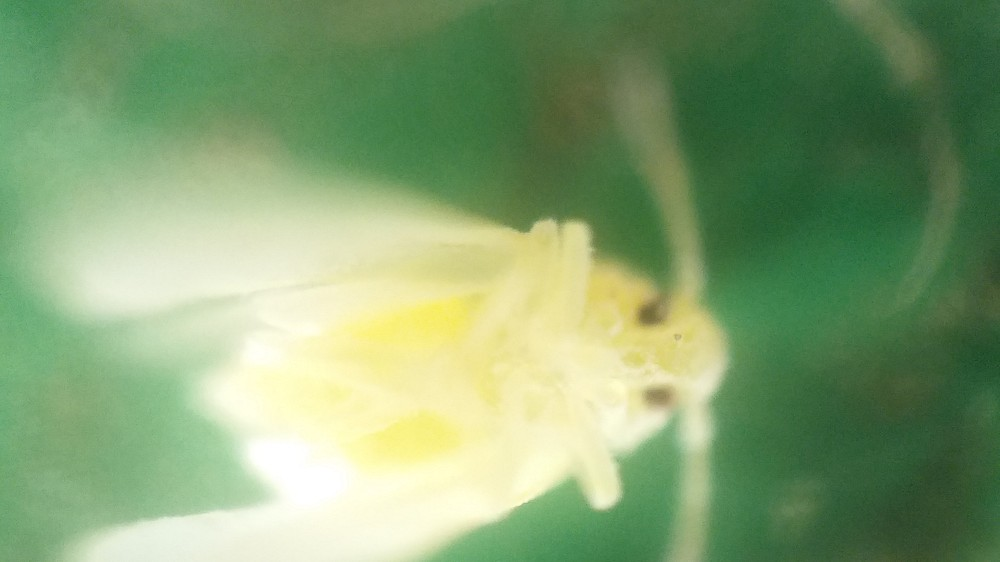Mosca Blanca: (55, 54, 749, 562)
